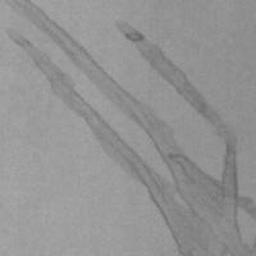Water spot: (6, 0, 256, 256)
